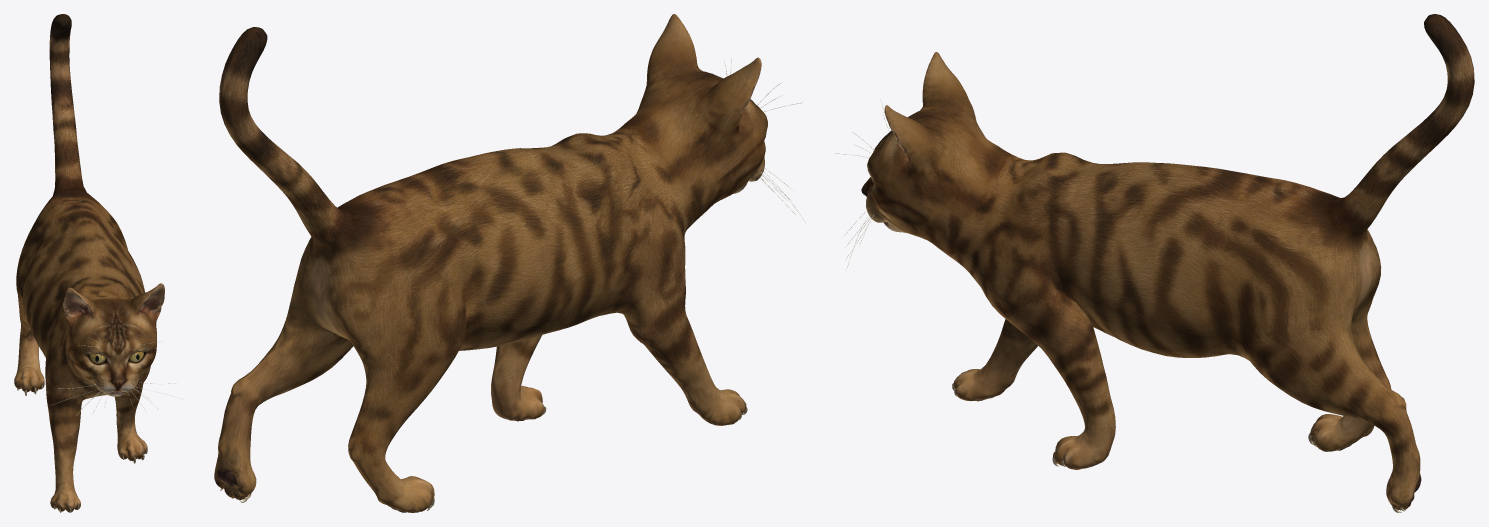
Rendered from cat.fbx.
3 views of the same model, side by side, from view 1: azimuth 30°, elevation 25°; view 2: azimuth 150°, elevation 25°; view 3: azimuth 270°, elevation 25° (orthographic). The views are drawn at different scales.
Visible parts, largest first — view 1: node_id58; view 2: node_id58; view 3: node_id58.
Part boxes in pixels (x1,y1,x2,y2): node_id58: (14,14,182,512); node_id58: (214,14,805,512); node_id58: (835,14,1474,512).
Size of the model in its own units: 37.1 by 52.66 by 62.16.
